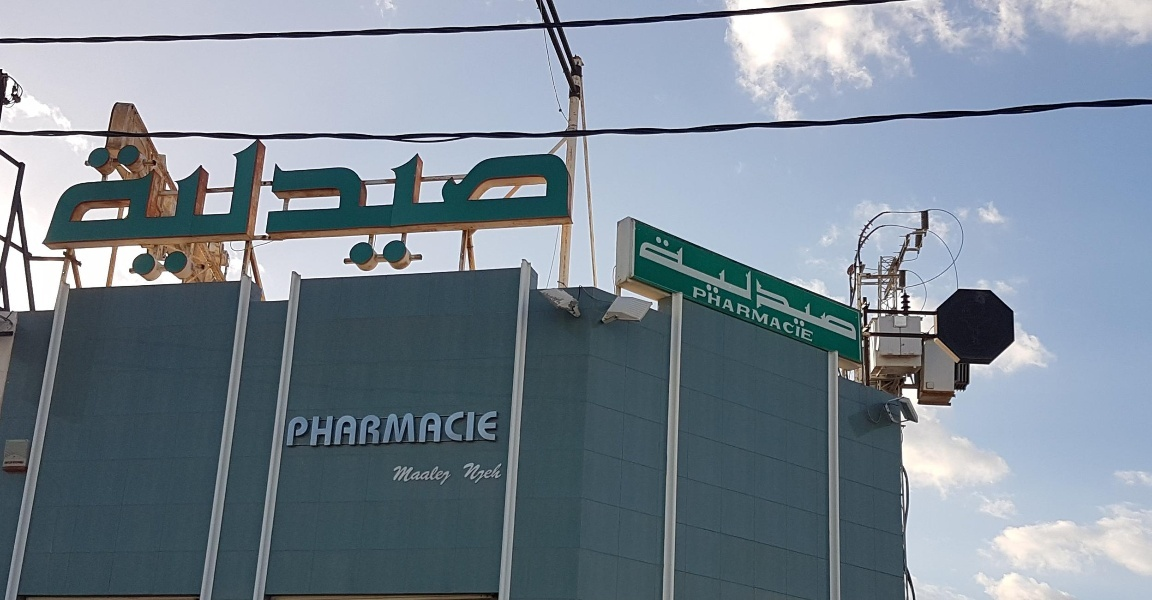text: (65, 129, 80, 278), (81, 129, 96, 278), (97, 129, 112, 278), (113, 129, 128, 278), (129, 129, 144, 278), (145, 129, 160, 278), (161, 129, 176, 278), (177, 129, 192, 278), (193, 129, 208, 278), (209, 129, 224, 278), (225, 129, 240, 278), (241, 129, 256, 278), (257, 129, 272, 278), (273, 129, 288, 278), (289, 129, 304, 278), (305, 129, 320, 278), (321, 129, 336, 278), (337, 129, 352, 278), (353, 129, 368, 278), (369, 129, 384, 278), (385, 129, 400, 278), (401, 129, 416, 278), (417, 129, 432, 278), (433, 129, 448, 278), (449, 129, 464, 278), (465, 129, 480, 278), (481, 129, 496, 278), (497, 129, 512, 278), (513, 129, 528, 278), (529, 129, 544, 278), (545, 129, 560, 278), (561, 129, 575, 278), (657, 227, 672, 348), (673, 227, 688, 348), (689, 227, 704, 348), (705, 227, 720, 348), (721, 227, 736, 348), (737, 227, 752, 348), (753, 227, 768, 348), (769, 227, 784, 348), (785, 227, 800, 348), (801, 227, 816, 348), (817, 227, 832, 348), (833, 227, 848, 348), (52, 129, 64, 278), (644, 227, 656, 348), (849, 227, 858, 348), (705, 285, 720, 344), (721, 285, 736, 344), (737, 285, 752, 344), (753, 285, 768, 344), (769, 285, 784, 344), (785, 285, 800, 344), (801, 285, 815, 344), (692, 285, 704, 344), (289, 410, 304, 447), (305, 410, 320, 447), (321, 410, 336, 447), (337, 410, 352, 447), (353, 410, 368, 447), (369, 410, 384, 447), (385, 410, 400, 447), (401, 410, 416, 447), (417, 410, 432, 447), (433, 410, 448, 447), (449, 410, 464, 447), (465, 410, 480, 447), (481, 410, 496, 447), (465, 460, 480, 485), (481, 460, 496, 485), (401, 466, 416, 486), (417, 466, 432, 486), (433, 466, 448, 486), (393, 466, 400, 486), (497, 460, 502, 485), (449, 466, 453, 486), (462, 460, 464, 485), (497, 410, 498, 447)
